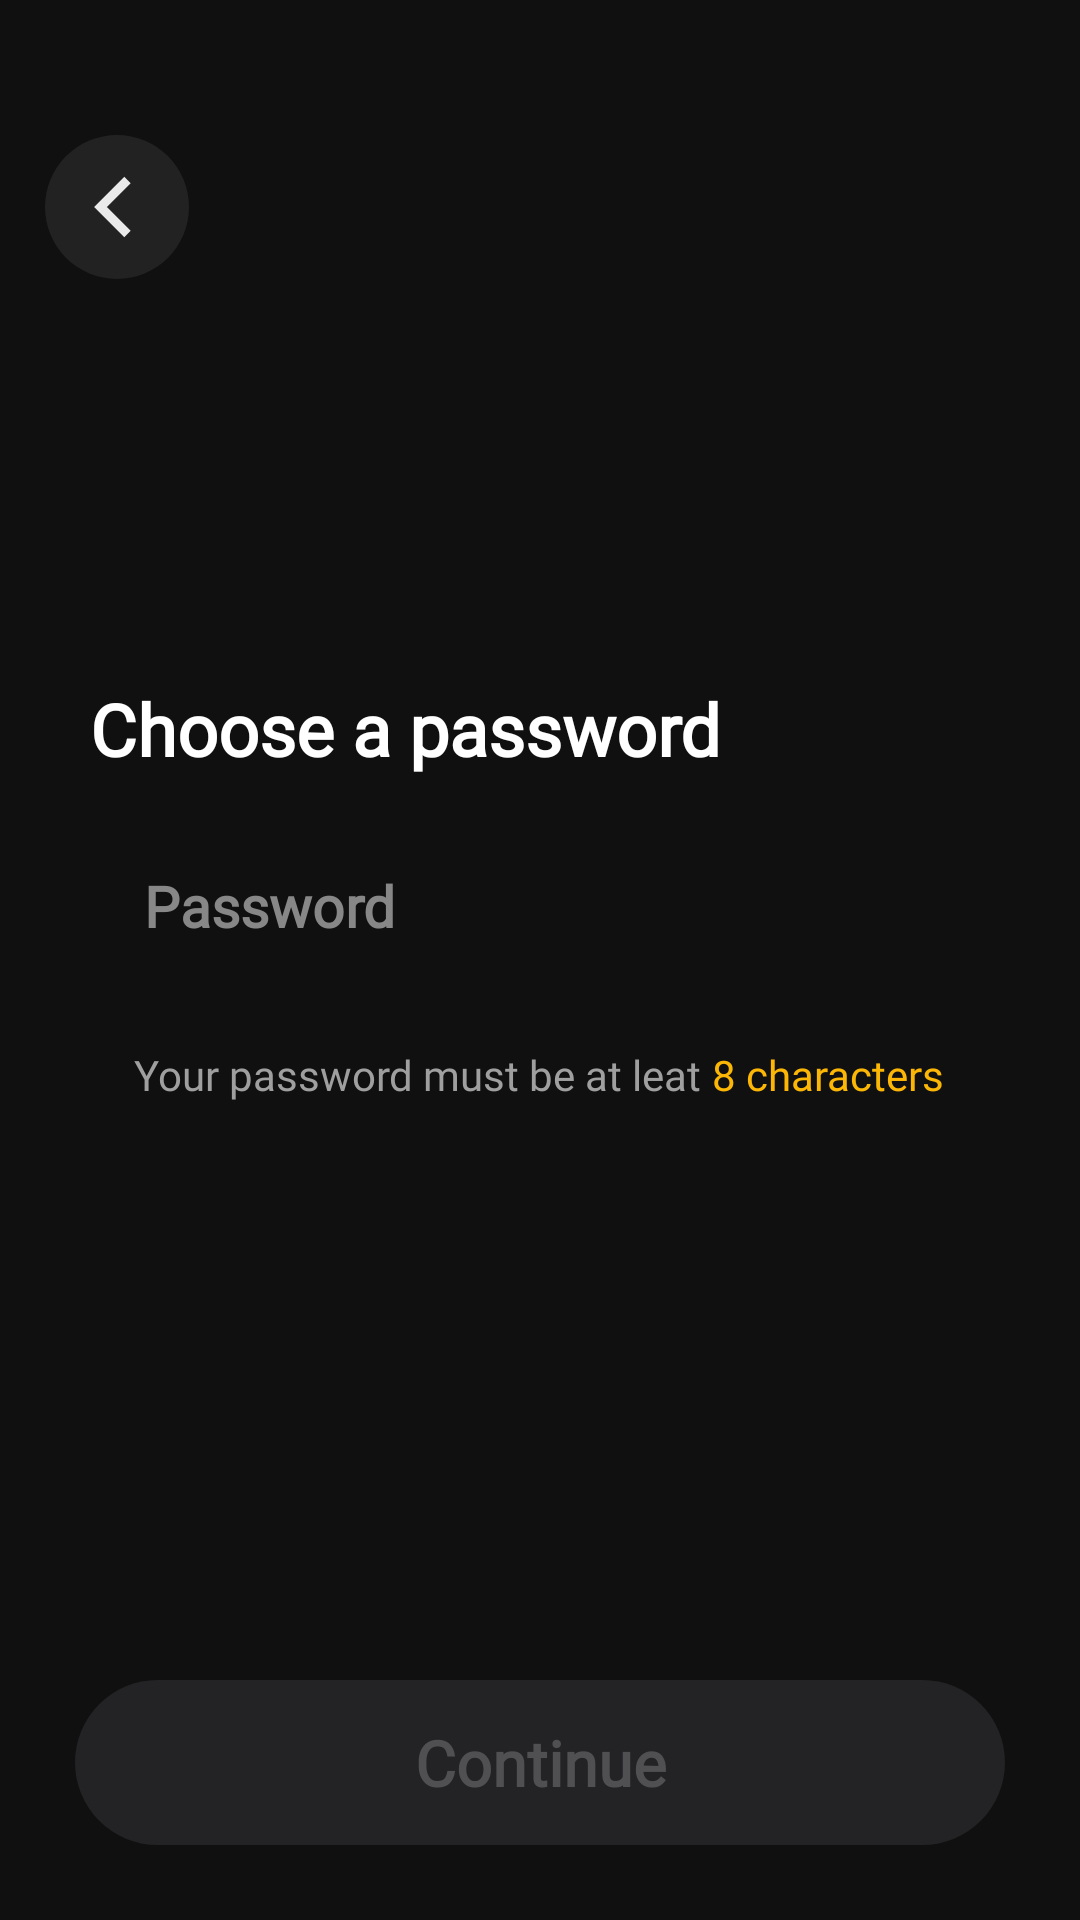

Screen size 1080w x 1920h. Icon name, then its box in pixels as (x1, y1, x2, y2):
back left: (45, 135, 189, 279)
